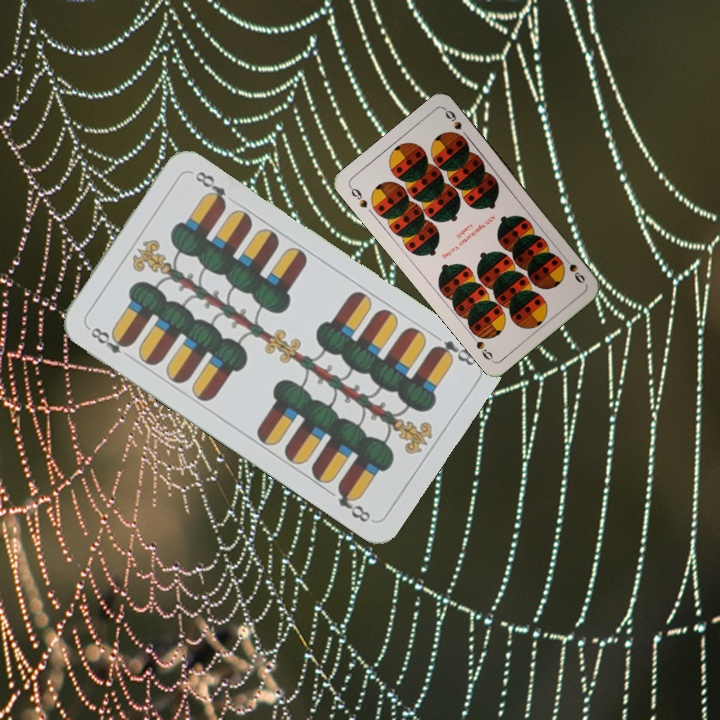E8: (83, 322, 134, 357), (427, 336, 480, 369)
S9: (559, 252, 588, 286), (345, 182, 370, 211)
